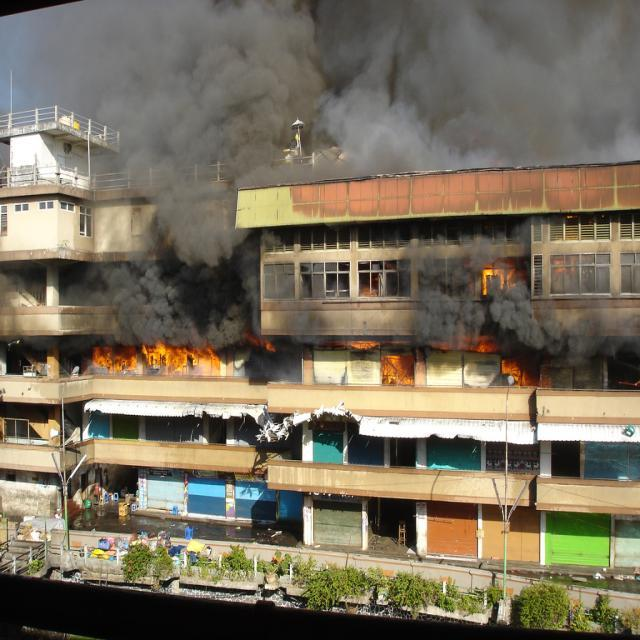Fire: (88, 340, 222, 382), (383, 338, 418, 397), (498, 355, 532, 390), (483, 262, 518, 288)
Smoke: (69, 10, 614, 137)
